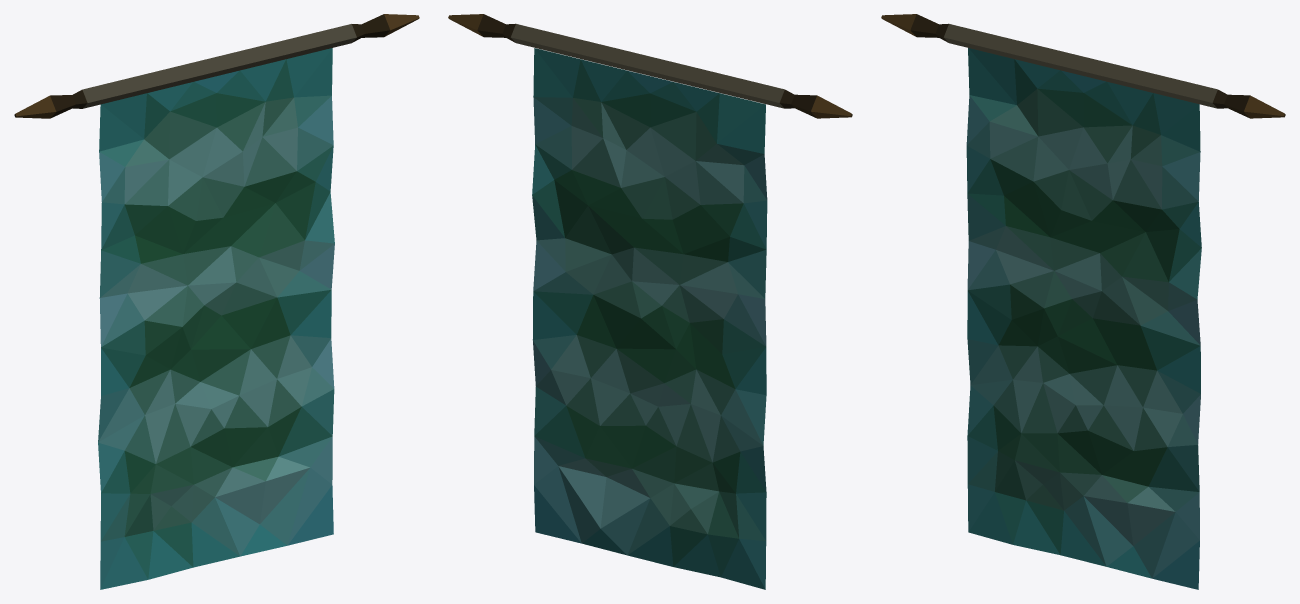
File: Prop_TapestryB.fbx
3 views of the same model, side by side, from view 1: azimuth 30°, elevation 25°; view 2: azimuth 150°, elevation 25°; view 3: azimuth 330°, elevation 25° (orthographic).
Visible parts, largest first — view 1: Prop_TapestryB; view 2: Prop_TapestryB; view 3: Prop_TapestryB.
Boxes of the visible parts, <box> form: Prop_TapestryB: <box>14,14,419,589</box>; Prop_TapestryB: <box>448,14,852,589</box>; Prop_TapestryB: <box>881,14,1285,589</box>.
Bounding box in the file's own units: 217 × 261 × 11.99.
